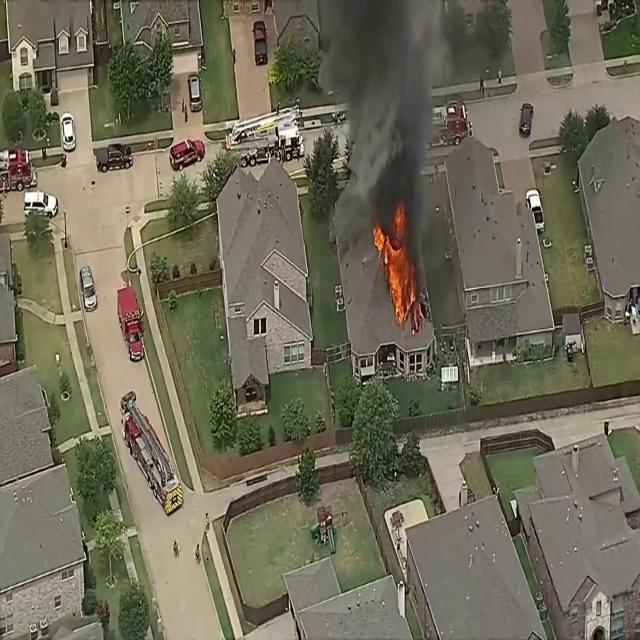Fire: (372, 204, 419, 325)
Smoke: (319, 0, 443, 269)
